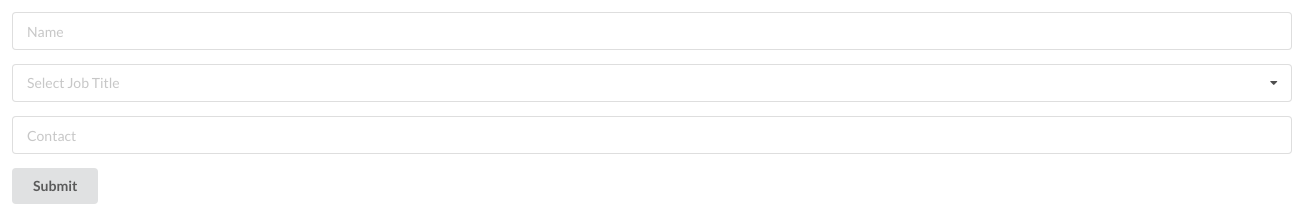
it: AddColleagueForm › handles Dropdown change correctly
Click the list.
click(652, 83)  # box [12, 64, 1292, 102]
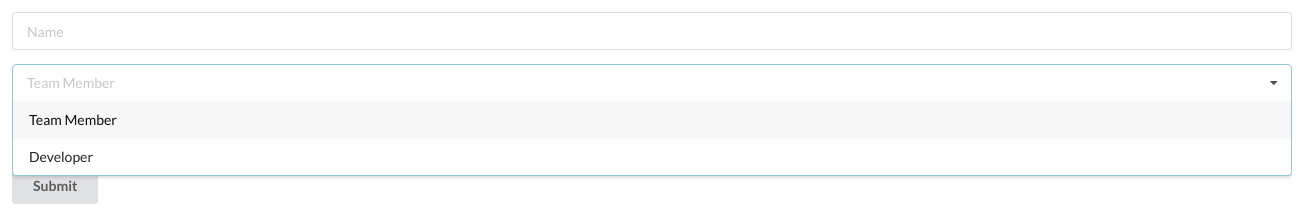
Click the option "Team Member".
click(73, 120)  # box [13, 101, 1291, 138]
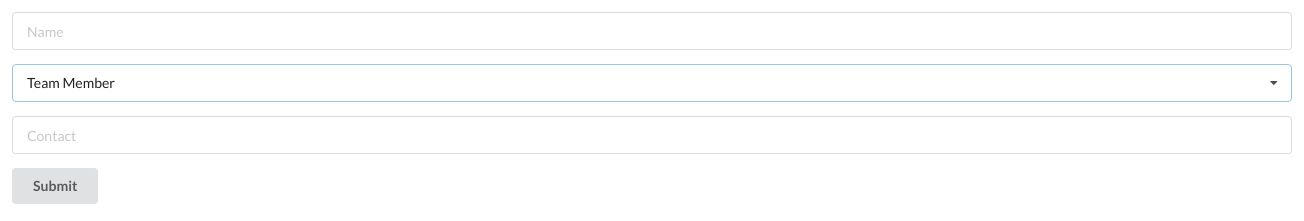
Expected: the list reads "Team Member", [27, 74, 115, 91]
Click the list.
click(652, 83)  # box [12, 64, 1292, 102]
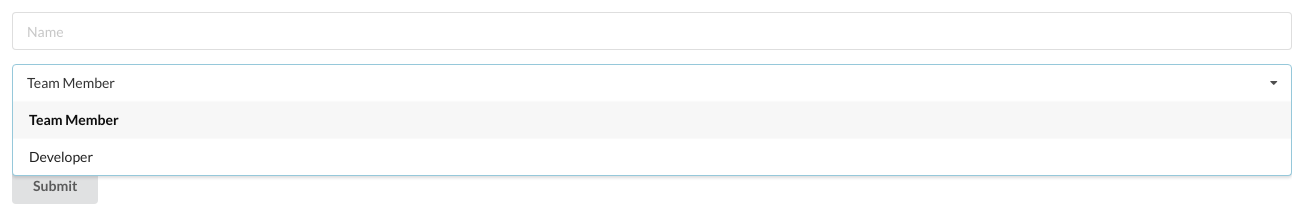
Click the option "Developer".
click(61, 156)  # box [13, 138, 1291, 175]
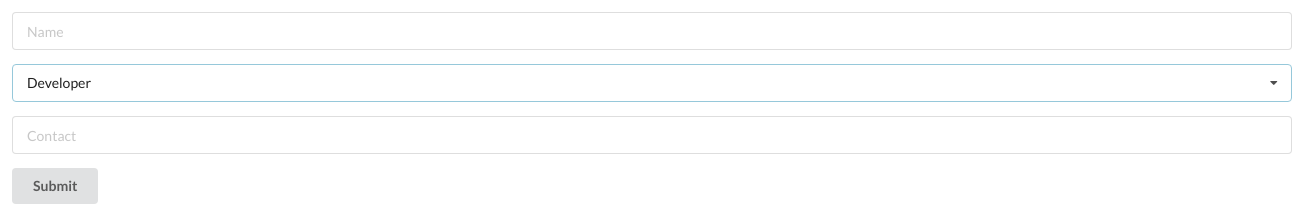
Expected: the list reads "Developer", [27, 74, 91, 91]
